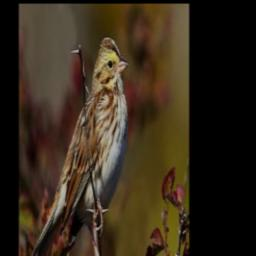Sparrow: (31, 33, 129, 256)
